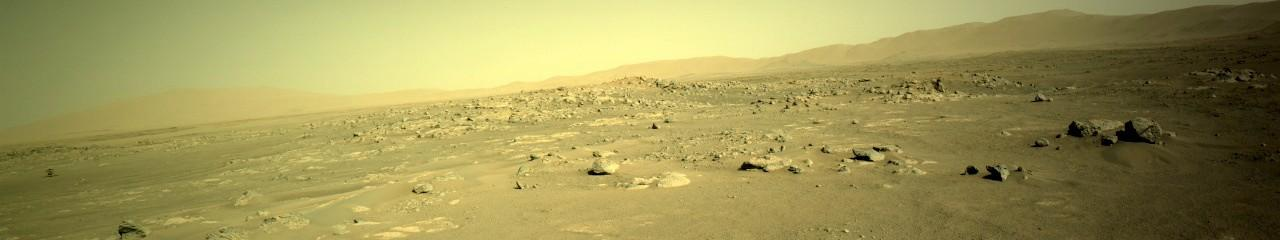bedrock: (382, 82, 1071, 190), (327, 186, 469, 234), (312, 124, 558, 142), (861, 60, 926, 69), (788, 65, 859, 71), (285, 190, 294, 224), (448, 95, 502, 100), (190, 233, 208, 234), (471, 193, 474, 194)
big_rock: (1055, 110, 1184, 152), (963, 66, 1089, 99), (738, 93, 786, 104), (1260, 66, 1268, 95), (117, 237, 154, 239)
sand: (5, 0, 1267, 142), (4, 137, 258, 239), (1088, 96, 1262, 151), (970, 37, 1263, 65), (1000, 100, 1071, 121), (156, 233, 326, 236), (24, 234, 115, 236), (452, 230, 458, 236), (278, 136, 287, 140), (455, 212, 458, 217)
soil: (458, 143, 1277, 238), (253, 112, 390, 137), (793, 70, 857, 83), (14, 140, 60, 144), (929, 67, 957, 69)
